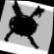not correct: (0, 0, 50, 51)
